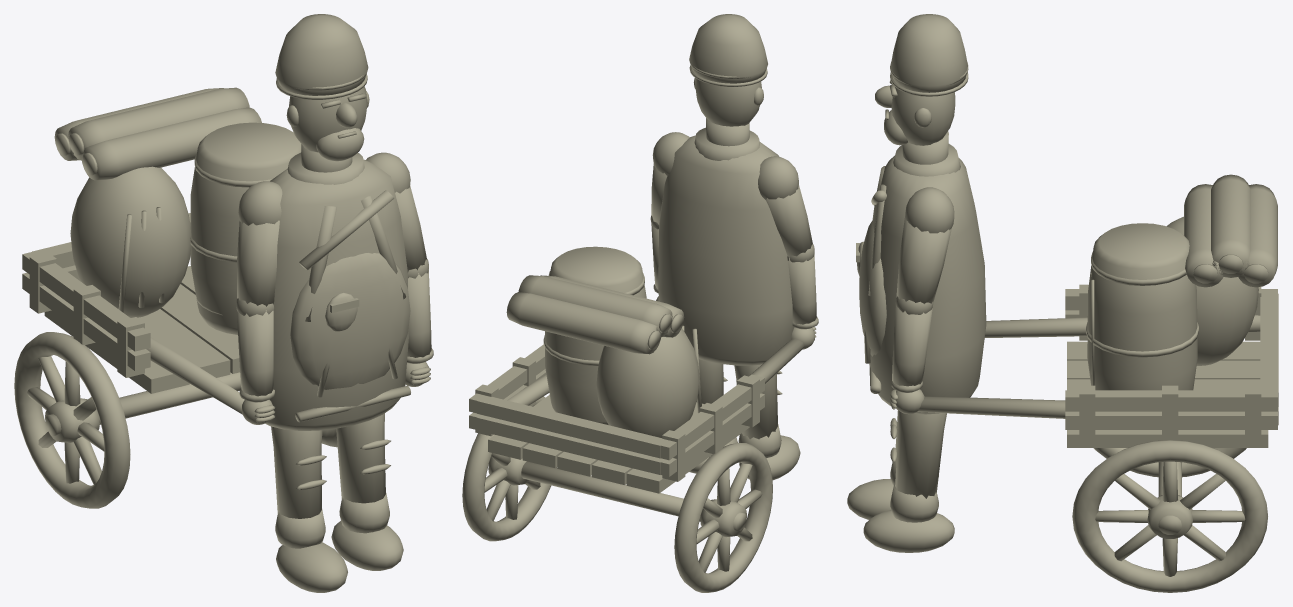
File: merchant-neutral-cart.fbx
3 renders of one model, left to right at view 1: azimuth 30°, elevation 25°; view 2: azimuth 150°, elevation 25°; view 3: azimuth 270°, elevation 25°, orthographic. The views are drawn at different scales.
Parts seen in each view (by area): view 1: Merchant_Neutral_Figure_And_Cargo_Cart; view 2: Merchant_Neutral_Figure_And_Cargo_Cart; view 3: Merchant_Neutral_Figure_And_Cargo_Cart.
Part boxes in pixels (box(x1,y1,x2,y2)): Merchant_Neutral_Figure_And_Cargo_Cart: box(14, 14, 433, 592); Merchant_Neutral_Figure_And_Cargo_Cart: box(462, 14, 818, 592); Merchant_Neutral_Figure_And_Cargo_Cart: box(847, 14, 1278, 592).
Bounding box in the file's own units: 0.014 × 0.025 × 0.019.
